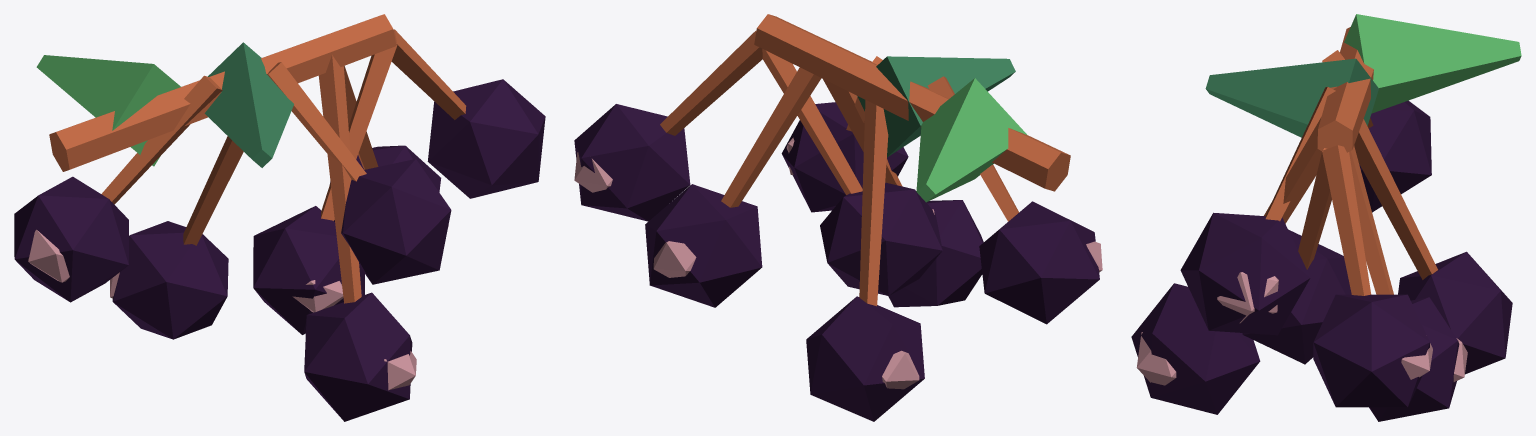
File: pickup_poison_berry.glb
3 views of the same model, side by side, from view 1: azimuth 30°, elevation 25°; view 2: azimuth 150°, elevation 25°; view 3: azimuth 270°, elevation 25° (orthographic). The views are drawn at different scales.
Parts seen in each view (by area): view 1: Poison_Berry_7, Poison_Berry_1, Poison_Berry_3, Poison_Berry_6, Poison_Stem, Poison_Berry_4, Poison_Berry_5, Poison_Leaf_2, Poison_Leaf_1, Poison_Pedicel_6, Poison_Pedicel_4, Poison_Pedicel_7 (+8 smaller); view 2: Poison_Berry_4, Poison_Berry_3, Poison_Berry_2, Poison_Berry_1, Poison_Stem, Poison_Berry_5, Poison_Leaf_1, Poison_Berry_6, Poison_Leaf_2, Poison_Berry_7, Poison_Pedicel_3, Poison_Pedicel_2 (+7 smaller); view 3: Poison_Berry_7, Poison_Berry_1, Poison_Leaf_1, Poison_Berry_6, Poison_Berry_3, Poison_Leaf_2, Poison_Berry_5, Poison_Berry_4, Poison_Berry_2, Poison_Pedicel_1, Poison_Pedicel_3, Poison_Stem (+8 smaller).
Part boxes in pixels (bbox=[...]): Poison_Berry_7: bbox=[341, 159, 451, 284]; Poison_Berry_1: bbox=[427, 79, 545, 198]; Poison_Berry_3: bbox=[112, 221, 228, 339]; Poison_Berry_6: bbox=[304, 292, 412, 421]; Poison_Stem: bbox=[49, 14, 396, 171]; Poison_Berry_4: bbox=[14, 176, 128, 302]; Poison_Berry_5: bbox=[253, 206, 364, 334]; Poison_Leaf_2: bbox=[204, 42, 293, 167]; Poison_Leaf_1: bbox=[36, 55, 180, 166]; Poison_Pedicel_6: bbox=[318, 55, 361, 303]; Poison_Pedicel_4: bbox=[101, 75, 222, 204]; Poison_Pedicel_7: bbox=[267, 62, 366, 181]; Poison_Berry_4: bbox=[979, 201, 1099, 324]; Poison_Berry_3: bbox=[806, 296, 924, 421]; Poison_Berry_2: bbox=[645, 184, 762, 307]; Poison_Berry_1: bbox=[574, 104, 690, 221]; Poison_Stem: bbox=[754, 14, 1070, 191]; Poison_Berry_5: bbox=[820, 182, 942, 295]; Poison_Leaf_1: bbox=[916, 78, 1026, 202]; Poison_Berry_6: bbox=[888, 200, 983, 307]; Poison_Leaf_2: bbox=[857, 56, 1015, 157]; Poison_Berry_7: bbox=[781, 102, 908, 212]; Poison_Pedicel_3: bbox=[859, 100, 888, 306]; Poison_Pedicel_2: bbox=[721, 67, 821, 207]; Poison_Berry_7: bbox=[1180, 212, 1310, 335]; Poison_Berry_1: bbox=[1313, 294, 1429, 407]; Poison_Leaf_1: bbox=[1344, 14, 1521, 113]; Poison_Berry_6: bbox=[1131, 283, 1260, 414]; Poison_Berry_3: bbox=[1398, 251, 1512, 374]; Poison_Leaf_2: bbox=[1205, 58, 1378, 137]; Poison_Berry_5: bbox=[1242, 229, 1351, 364]; Poison_Berry_4: bbox=[1359, 100, 1431, 212]; Poison_Berry_2: bbox=[1369, 297, 1459, 421]; Poison_Pedicel_1: bbox=[1322, 145, 1371, 295]; Poison_Pedicel_3: bbox=[1330, 86, 1437, 279]; Poison_Stem: bbox=[1317, 27, 1373, 152].
Size of the model in its own units: 0.15 by 0.0869 by 0.0932.
